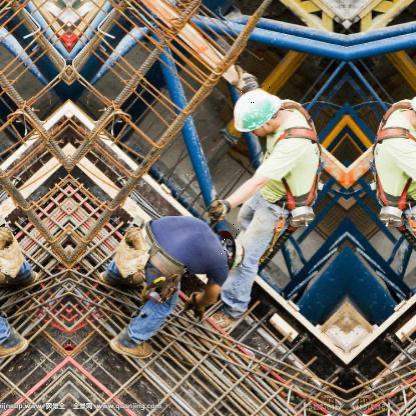safetyhelmet: (232, 86, 284, 137), (220, 224, 244, 271)
